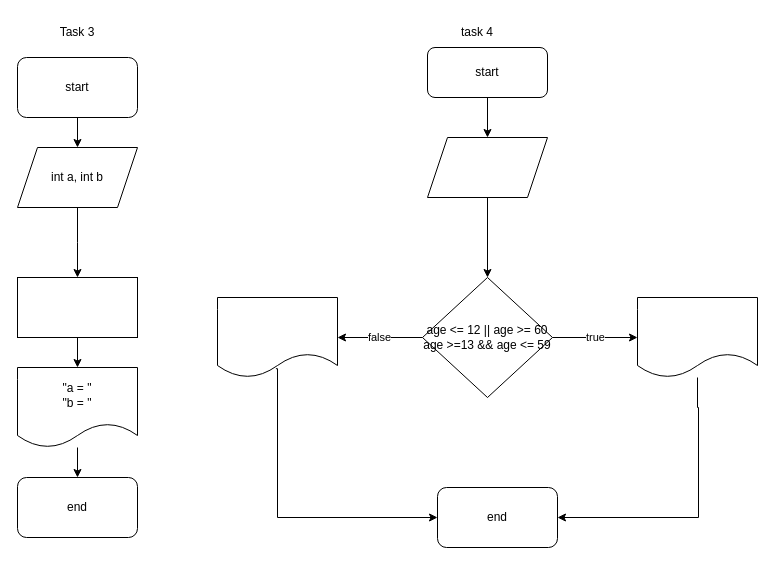
Some shapes in this 775 by 565 pixel diagram are drawn without their labels. The shapes that lost their labels are listed below. From the top down, each one's box as (x1, y1, x2, y2) in pixels, then its label:
(426, 136, 548, 198): byte age , bool sudent_id
(16, 276, 138, 338): process a += 1 b -= 1
(216, 296, 338, 378): price 5 azn or 10 azn
(636, 296, 758, 378): price 7.5 azn with discount
